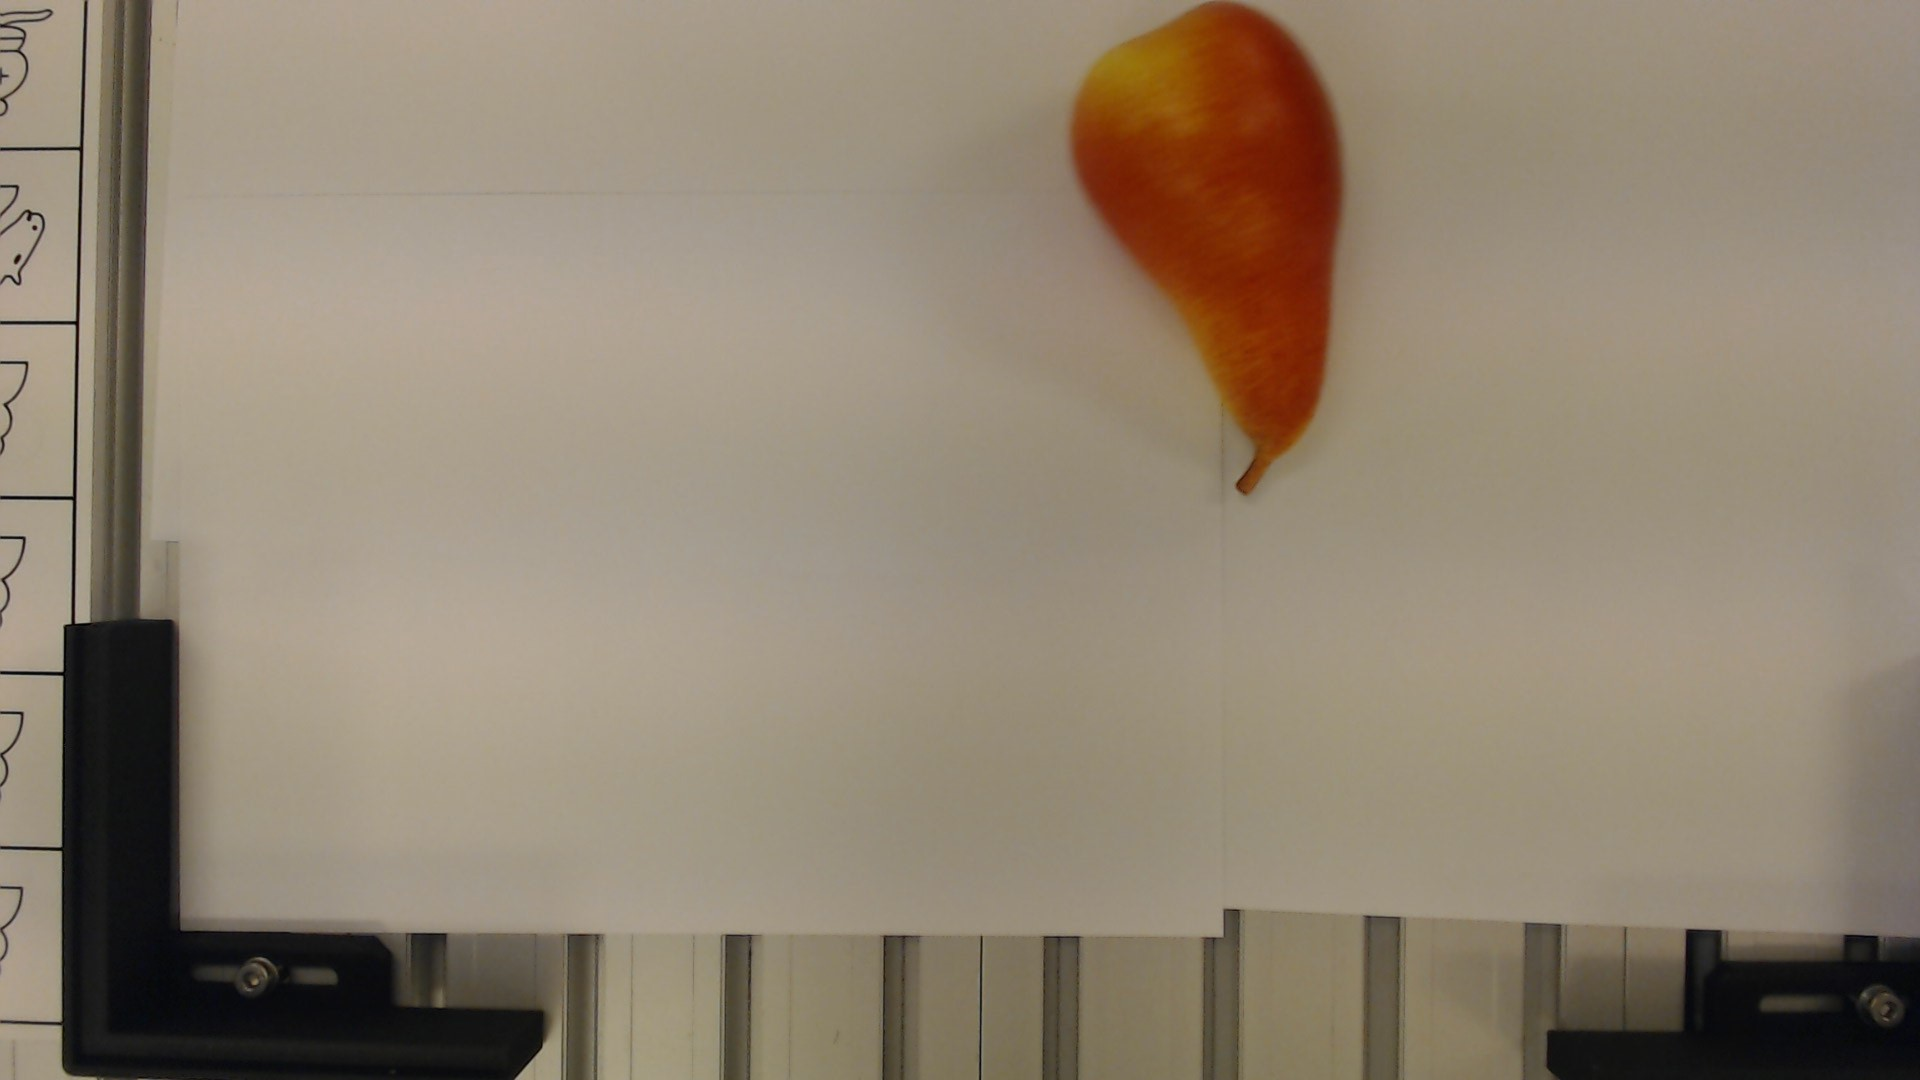Pear: (1065, 3, 1349, 501)
